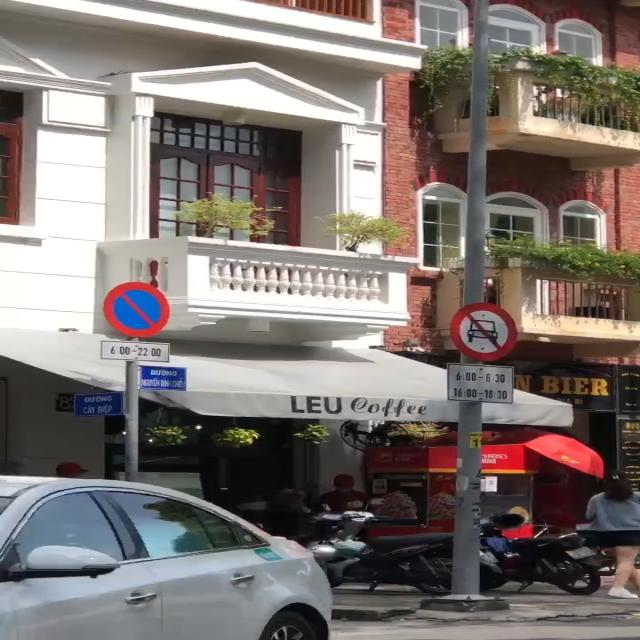Bien bao cam do xe: (103, 279, 177, 339)
Bien bao cam xe oto: (446, 300, 526, 365)
